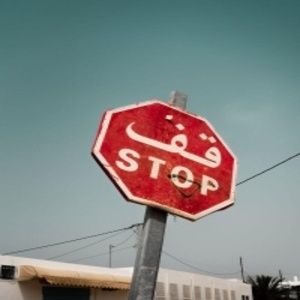stop: (92, 100, 237, 224)
